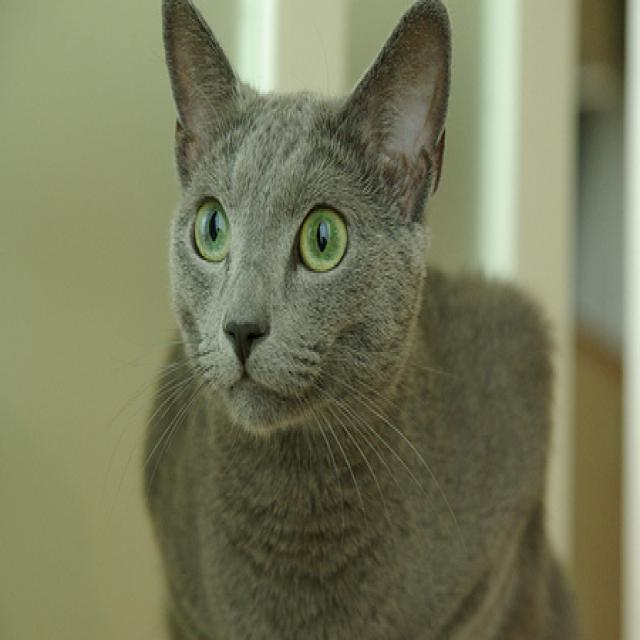Russian Blue: (135, 0, 580, 640)
